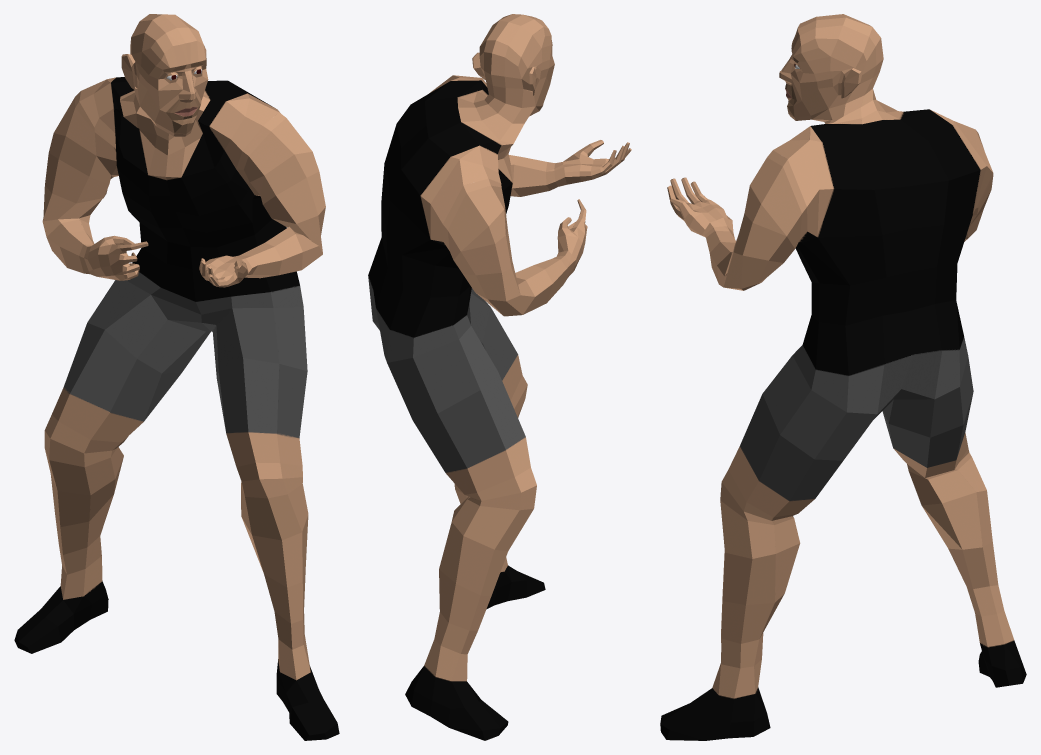
File: PlayerDead(1).obj
The picture shows the model from 3 angles, left to right: view 1: azimuth 30°, elevation 25°; view 2: azimuth 150°, elevation 25°; view 3: azimuth 270°, elevation 25°; orthographic projection. The views are drawn at different scales.
Parts seen in each view (by area): view 1: Plane002; view 2: Plane002; view 3: Plane002.
Boxes of the visible parts, <box> form: Plane002: <box>14,14,339,740</box>; Plane002: <box>368,14,631,740</box>; Plane002: <box>660,14,1026,740</box>.
Bounding box in the file's own units: 557 × 1696 × 829.
